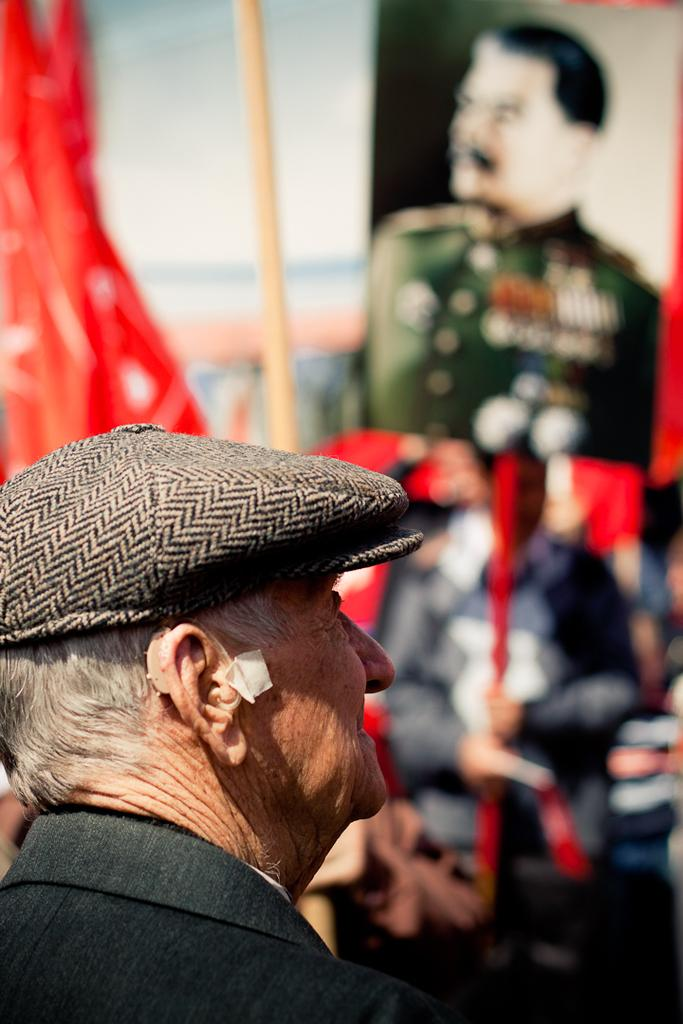Hat: (0, 419, 425, 649)
